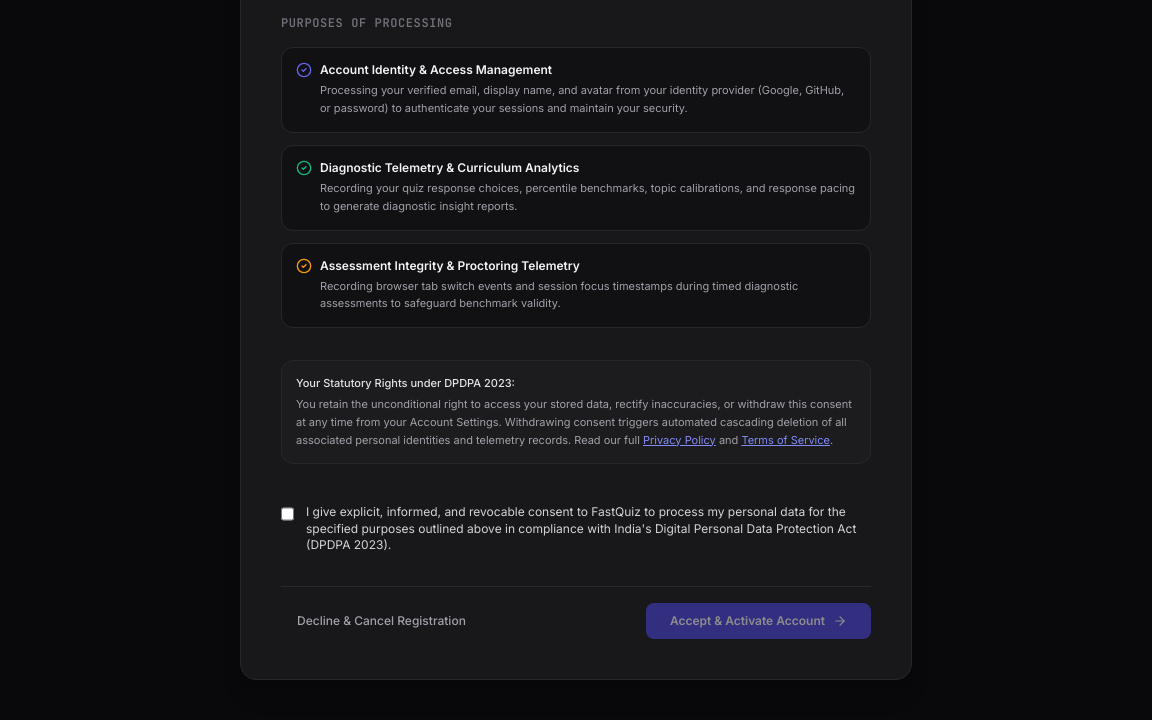
Scenario: ConsentPage Component › handles consent failure error response from backend
(page scrolled)
Click the checkbox.
click(288, 514)  # box 281,506 -> 294,522
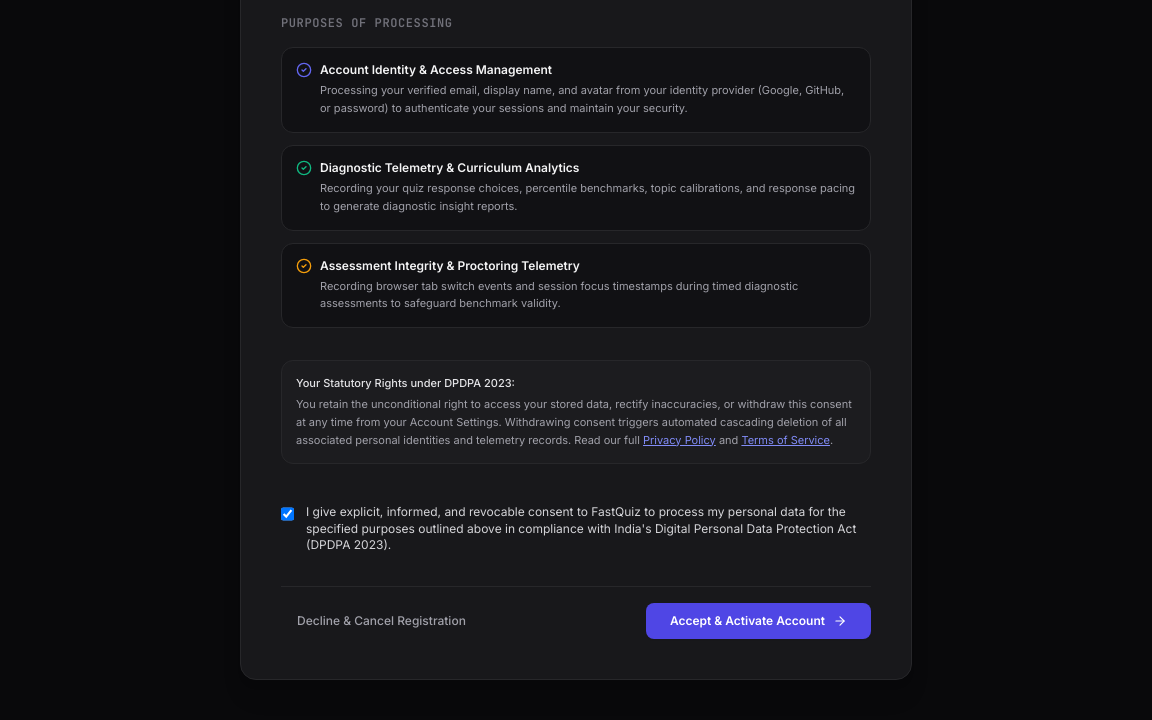
Click the button "Accept & Activate Account".
click(758, 621)  # box 646,603 -> 871,639
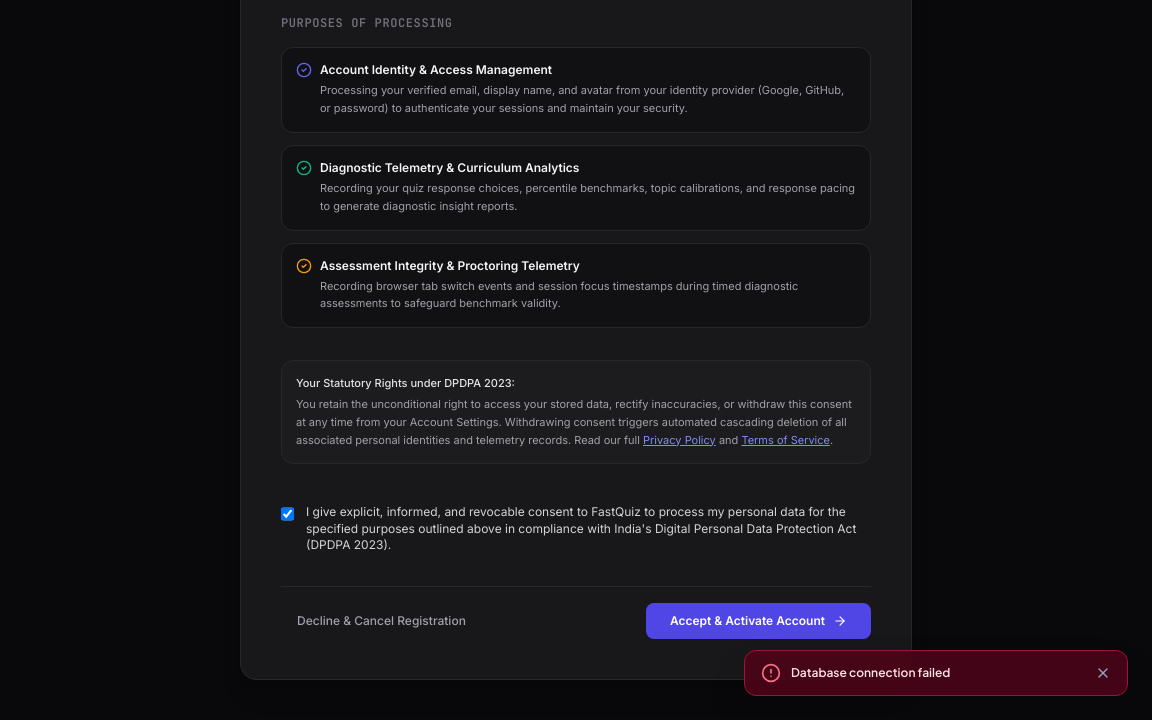
Check: the text "Database connection failed" is shown, box 791,665 -> 950,681
